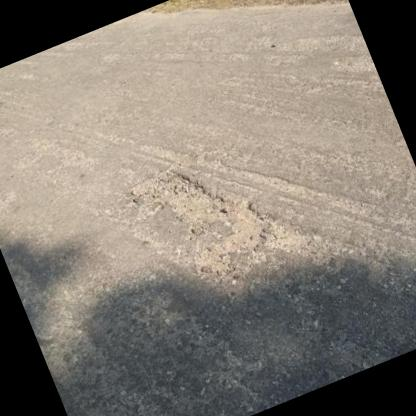pothole: (124, 138, 282, 294)
